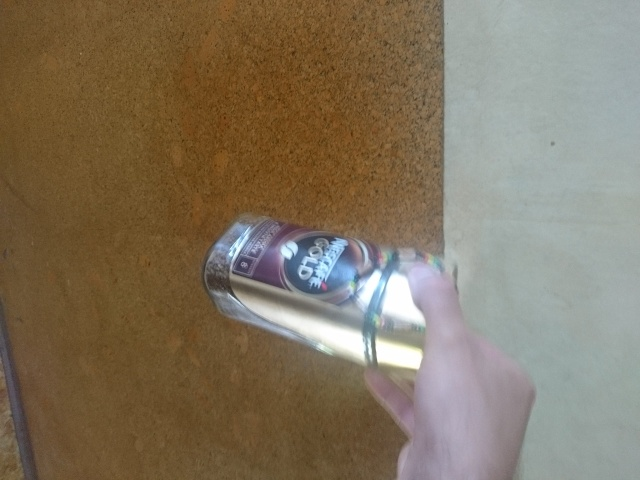Nescafe Gold 225g: (198, 209, 461, 385)
